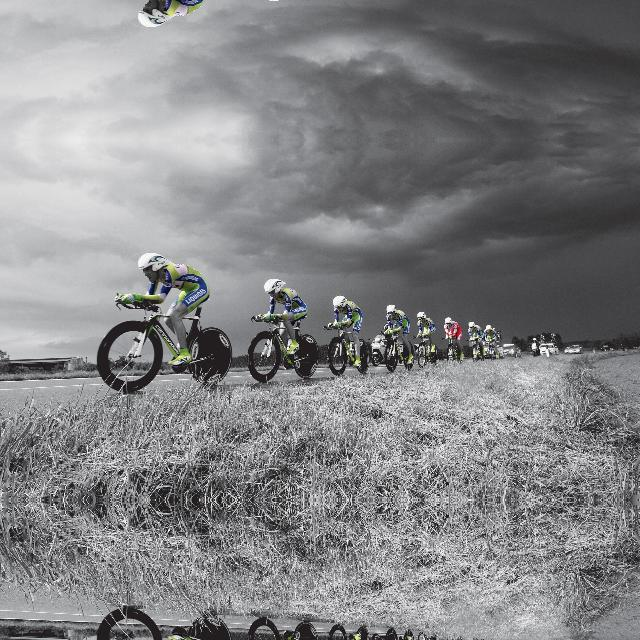obstacle: (98, 288, 238, 388), (242, 306, 320, 378), (97, 612, 238, 640), (242, 621, 319, 640)
